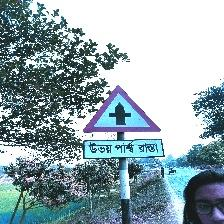Crossroad: (81, 87, 165, 159)
